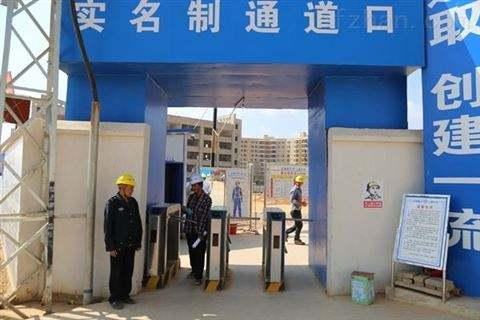helmet: (116, 175, 137, 189), (189, 174, 205, 186), (295, 176, 306, 185)
